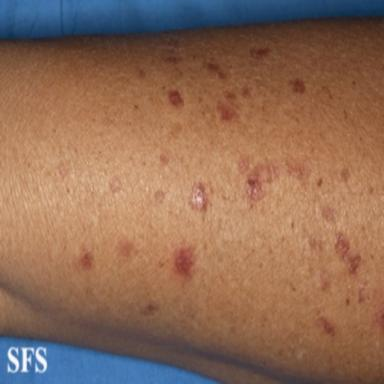Porokeratosis: (238, 154, 279, 207), (335, 232, 361, 275), (217, 90, 239, 121), (174, 246, 195, 276), (189, 183, 209, 210), (116, 239, 135, 260), (287, 164, 310, 180), (317, 316, 335, 336), (207, 63, 227, 80), (289, 77, 305, 95), (168, 90, 184, 108), (322, 206, 337, 225), (79, 252, 93, 270), (250, 47, 271, 59), (140, 303, 159, 316), (110, 175, 121, 193), (155, 190, 164, 204), (160, 153, 169, 167), (241, 85, 251, 97), (166, 56, 181, 64), (341, 169, 349, 183), (139, 69, 145, 78)
